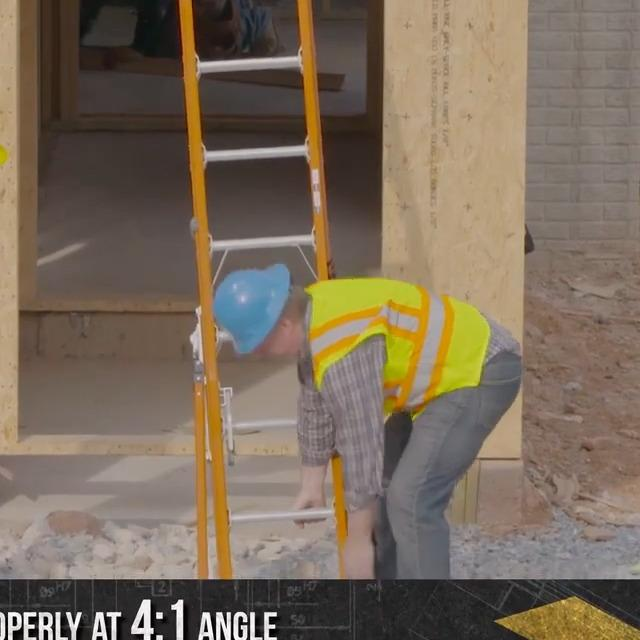Hardhat: (211, 263, 292, 353)
Ladder: (173, 0, 357, 577)
NO-Mask: (276, 334, 300, 357)
Person: (210, 264, 523, 579), (143, 0, 278, 65)
Safety Vest: (304, 276, 489, 423)
